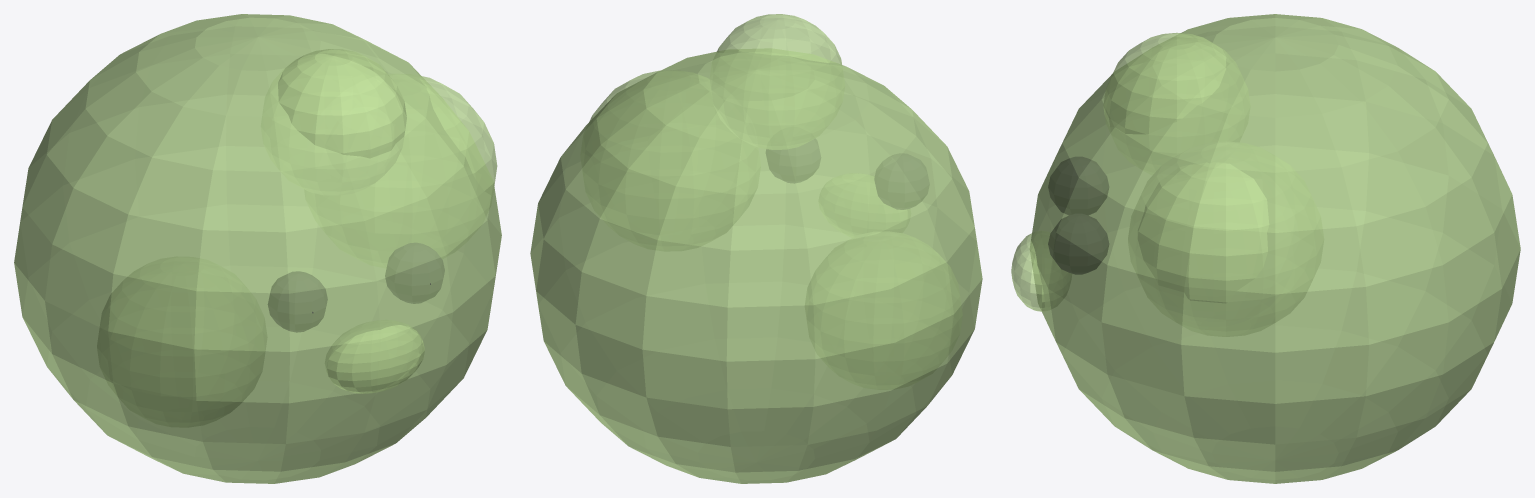
File: mob-fart.glb
3 views of the same model, side by side, from view 1: azimuth 30°, elevation 25°; view 2: azimuth 150°, elevation 25°; view 3: azimuth 270°, elevation 25° (orthographic). The views are drawn at different scales.
Visible parts, largest first — view 1: mob-fart; view 2: mob-fart; view 3: mob-fart.
Boxes of the visible parts, x1,y1,x2,y2 form: mob-fart: (14,14,501,483); mob-fart: (530,14,982,483); mob-fart: (1011,14,1520,483).
Size of the model in its own units: 0.8 by 0.78 by 0.83.
